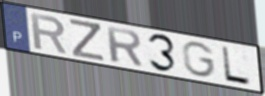3: (144, 33, 179, 74)
G: (181, 40, 218, 79)
L: (220, 45, 253, 88)
R: (104, 24, 145, 68), (29, 11, 69, 56)
Z: (68, 17, 106, 63)
